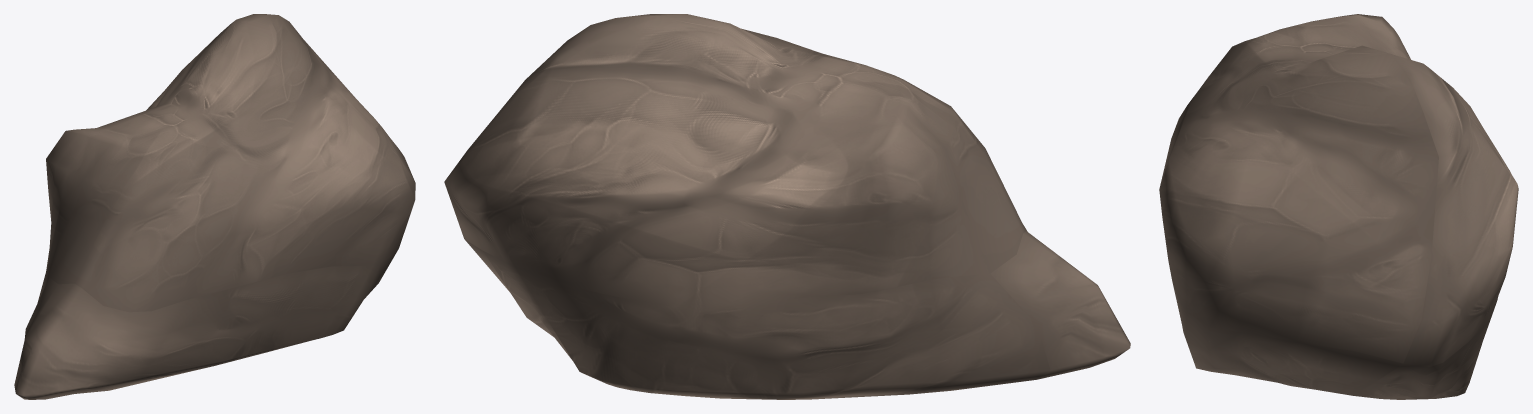
The picture shows the model from 3 angles, left to right: view 1: azimuth 30°, elevation 25°; view 2: azimuth 150°, elevation 25°; view 3: azimuth 270°, elevation 25°; orthographic projection. The views are drawn at different scales.
Visible parts, largest first — view 1: ZBrush_defualt_group; view 2: ZBrush_defualt_group; view 3: ZBrush_defualt_group.
Part boxes in pixels (x1,y1,x2,y2): ZBrush_defualt_group: [14, 14, 415, 399]; ZBrush_defualt_group: [444, 14, 1130, 399]; ZBrush_defualt_group: [1159, 14, 1518, 399].
Size of the model in its own units: 2.94 by 1.73 by 1.69.
1 material, 1 textured.
